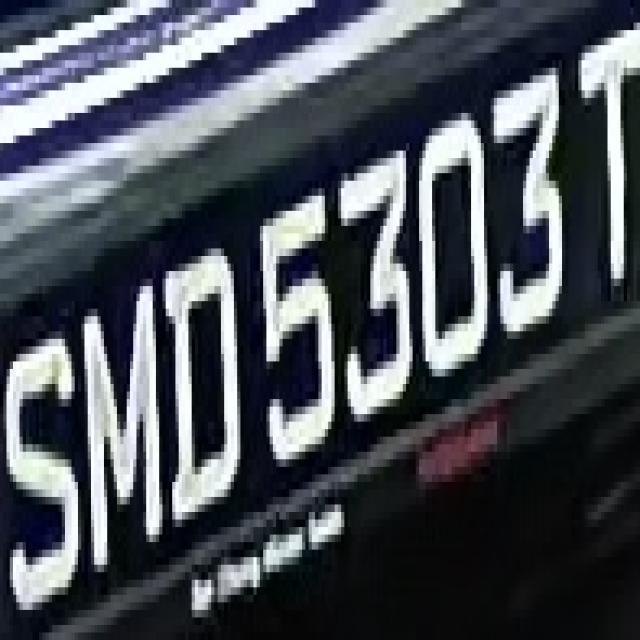0: (410, 113, 490, 399)
3: (474, 61, 566, 362), (325, 158, 419, 437)
5: (253, 166, 338, 482)
D: (156, 226, 244, 534)
M: (75, 294, 169, 580)
S: (3, 309, 81, 617)
T: (3, 0, 3, 4)
